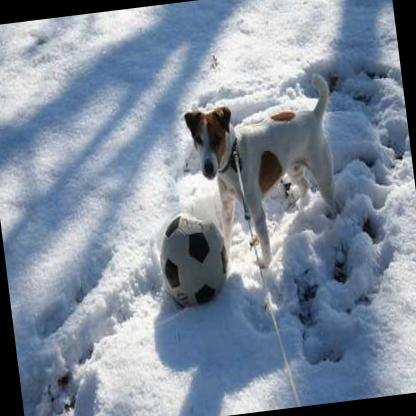ball: (155, 208, 233, 310)
